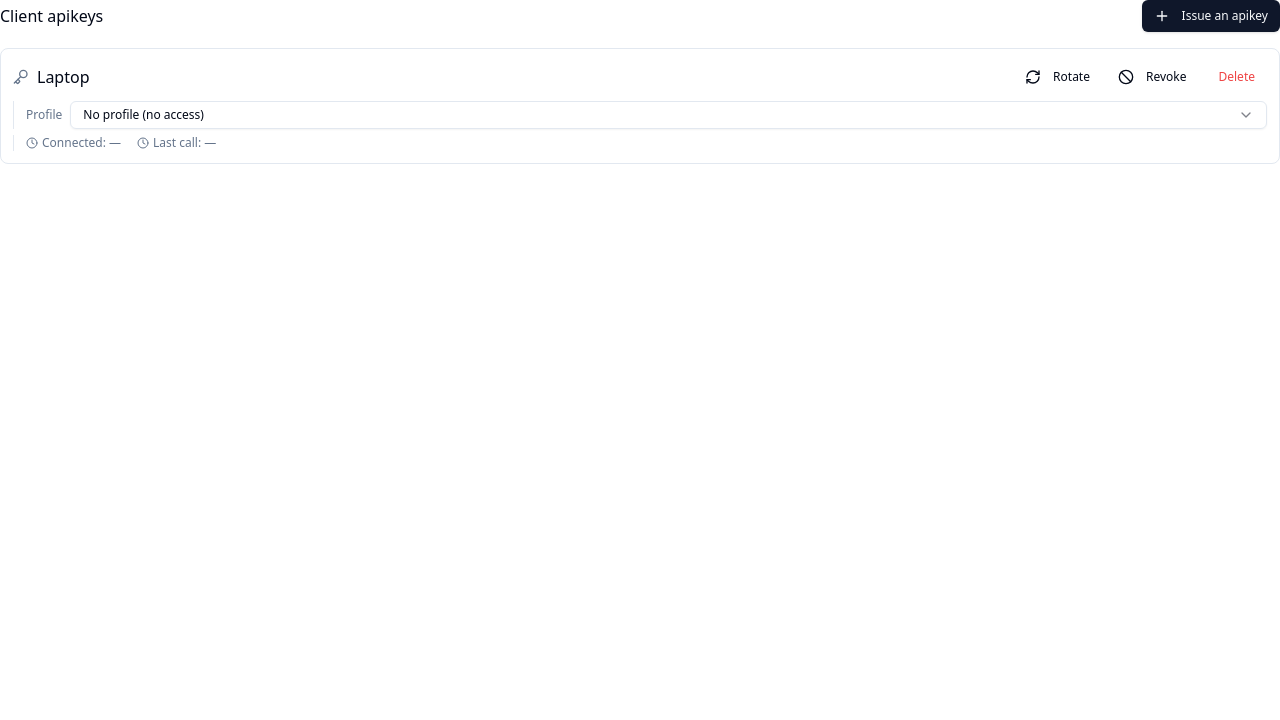
MCPApikeys › rote une clef bearer : ancienne révoquée, nouveau token affiché une fois
Click the button "Rotate".
click(1058, 77)  # box [1013, 61, 1102, 93]
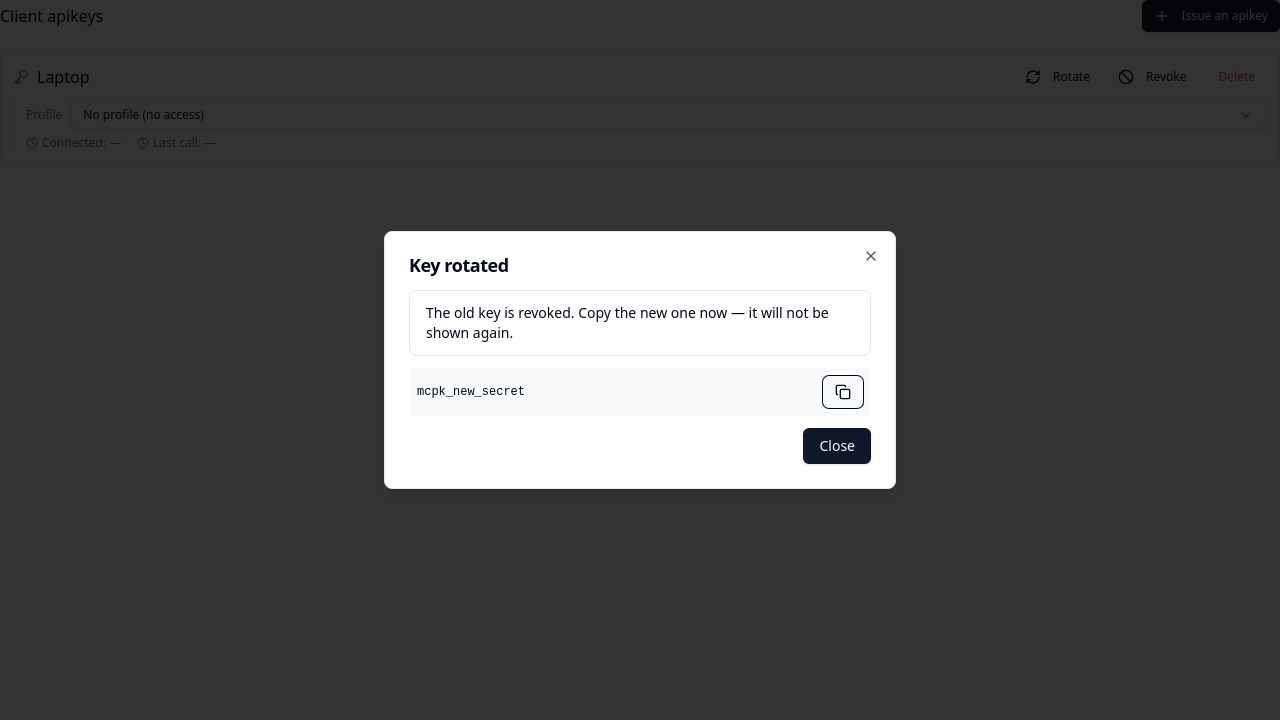
Expected: the text "mcpk_new_secret" is shown, [417, 385, 525, 399]
Expected: the text "old key is revoked" is shown, [426, 303, 829, 342]
